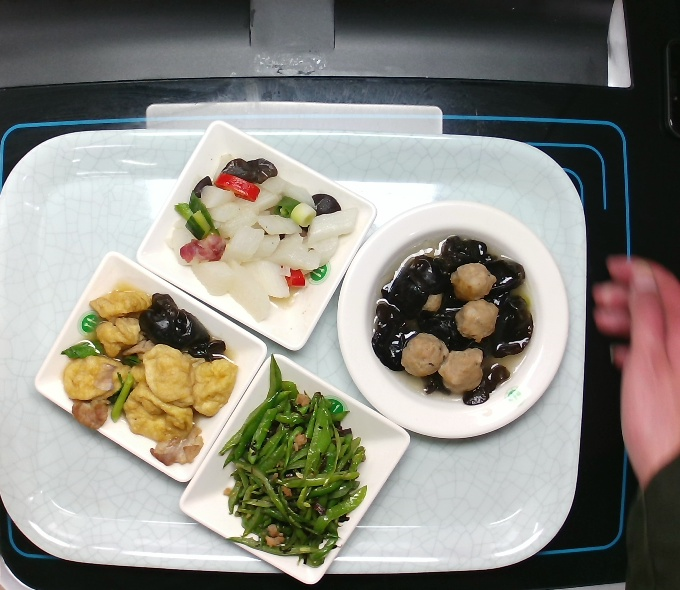wcq-MuErWanZi: (362, 227, 539, 405)
wcq-ShanYao: (163, 149, 360, 319)
wcq-SiJiDouChaoRou: (210, 354, 378, 570)
wcq-YouPaoRouPian: (57, 277, 239, 467)
